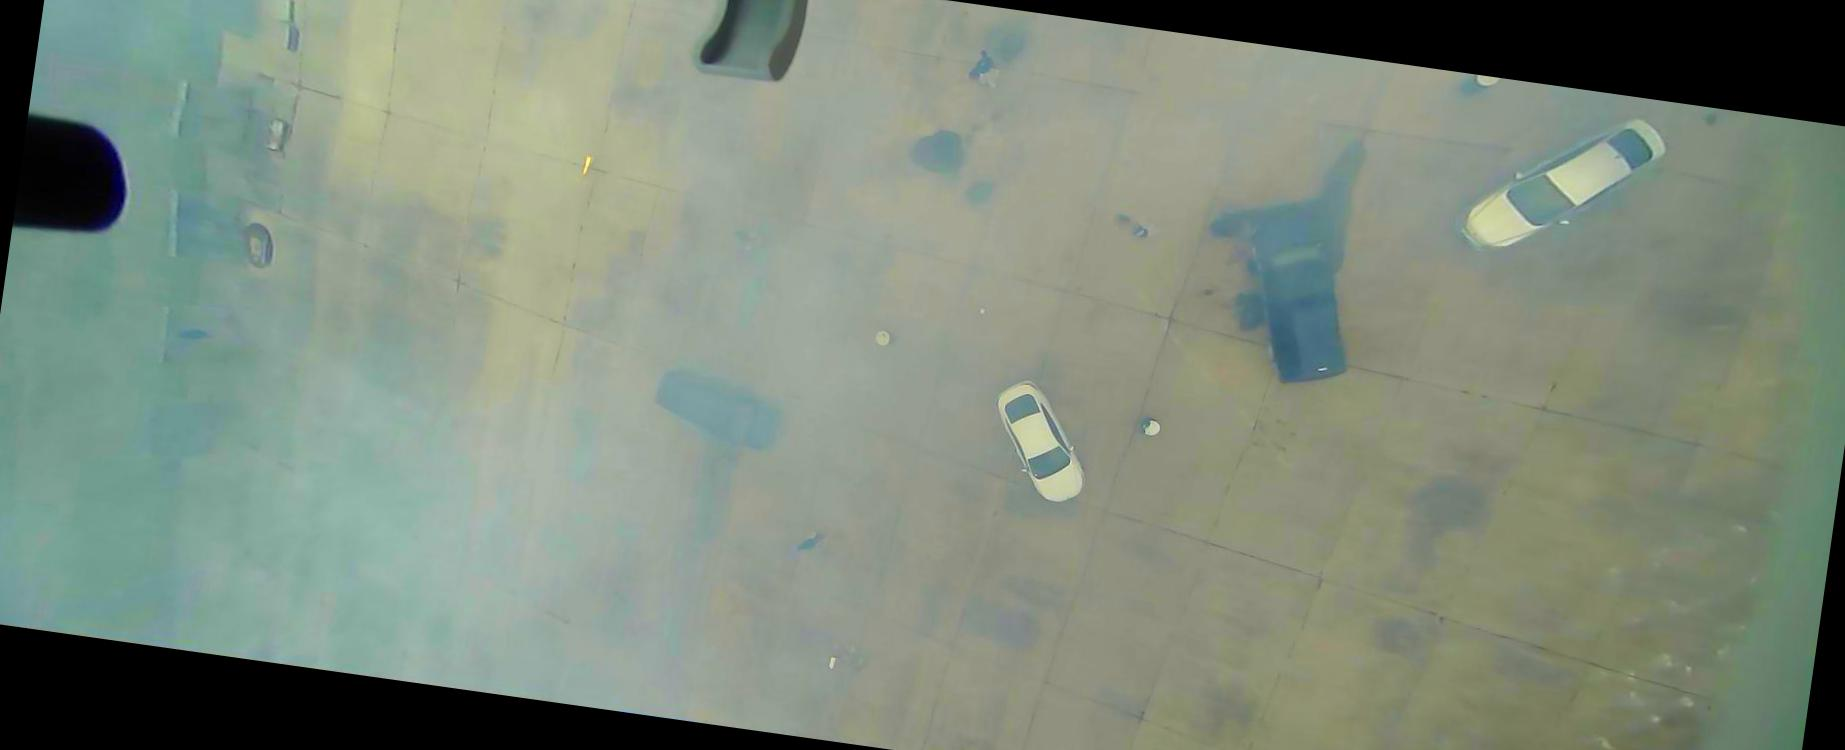vehicle: (1459, 97, 1671, 273), (1231, 212, 1365, 392), (984, 376, 1098, 505), (650, 363, 784, 451)
